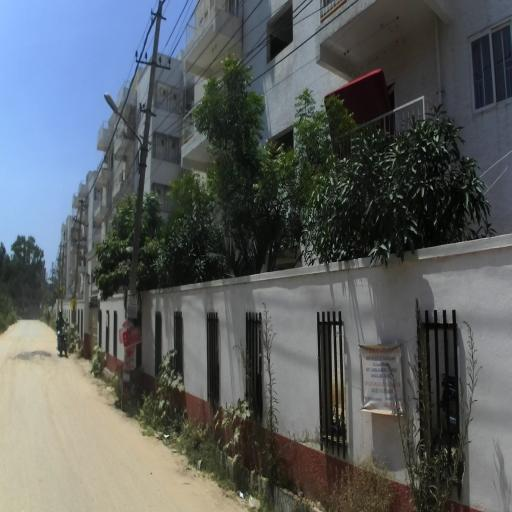street_light_0: (104, 92, 147, 175)
